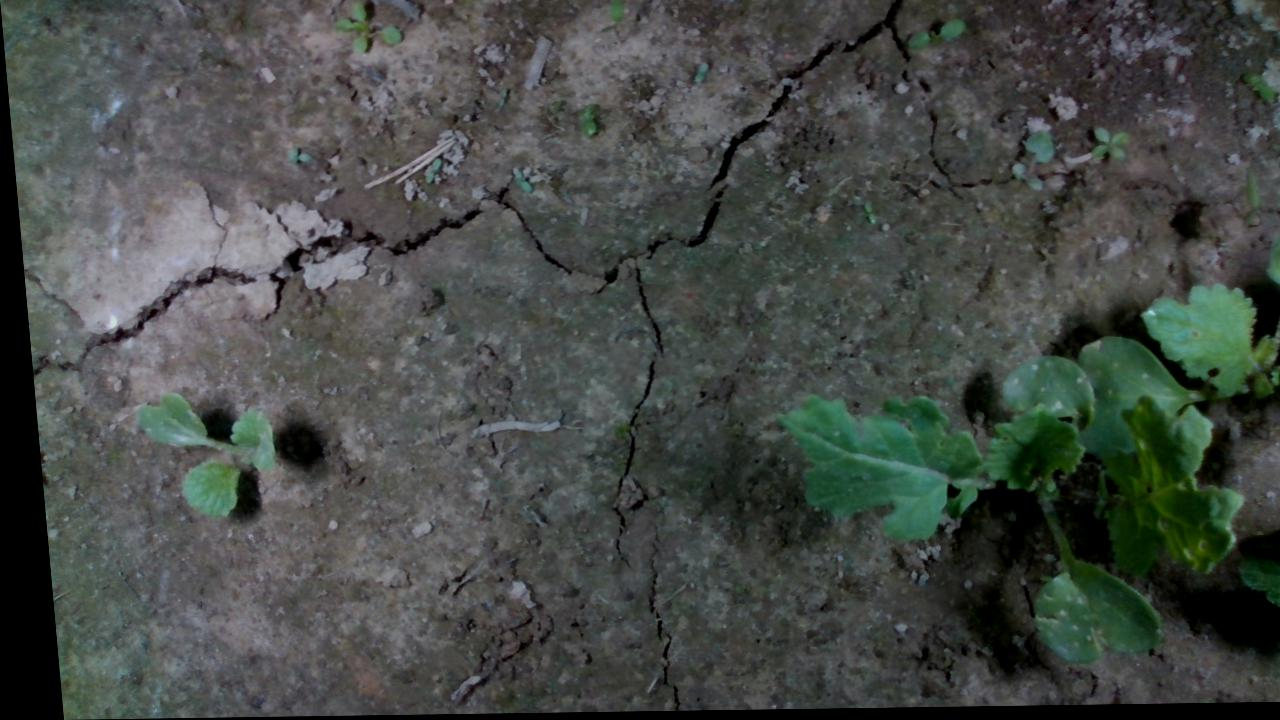weed: (1084, 122, 1132, 163)
